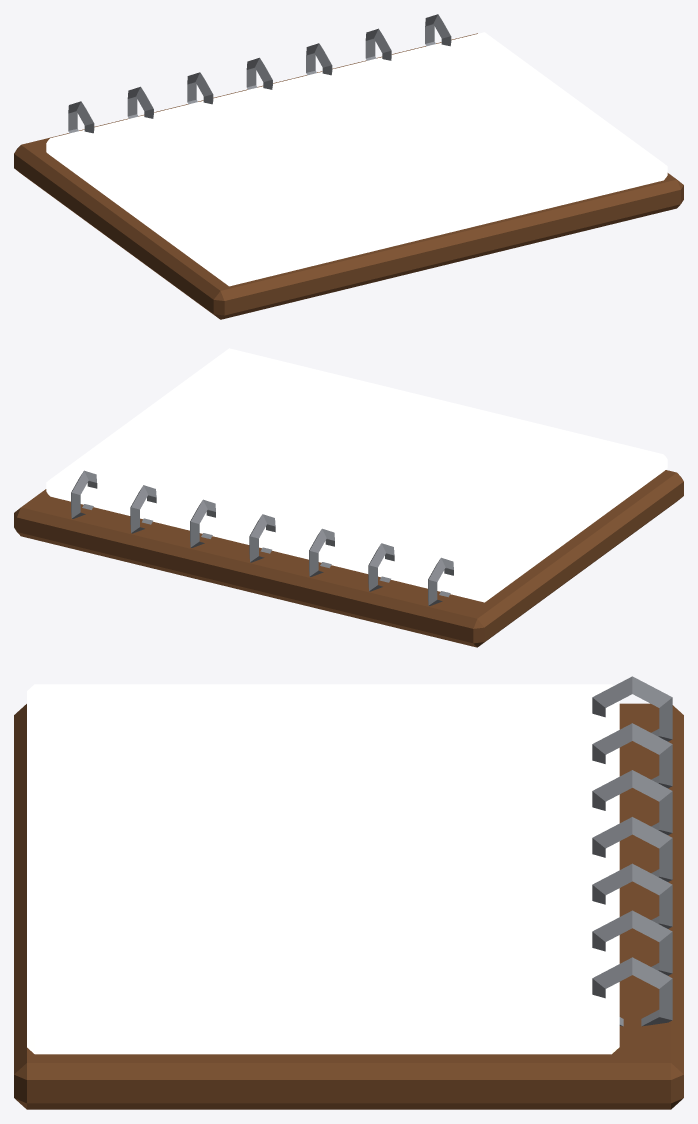
The model's file is drawing_pad.glb.
3 views of the same model, one above another, from view 1: azimuth 30°, elevation 25°; view 2: azimuth 150°, elevation 25°; view 3: azimuth 270°, elevation 25° (orthographic). The views are drawn at different scales.
Visible parts, largest first — view 1: drawing_pad; view 2: drawing_pad; view 3: drawing_pad.
Part boxes in pixels (x1=…): drawing_pad: x1=14, y1=14, x2=683, y2=319; drawing_pad: x1=14, y1=348, x2=683, y2=647; drawing_pad: x1=14, y1=676, x2=683, y2=1109.
Bounding box in the file's own units: 0.34 × 0.048 × 0.26.
